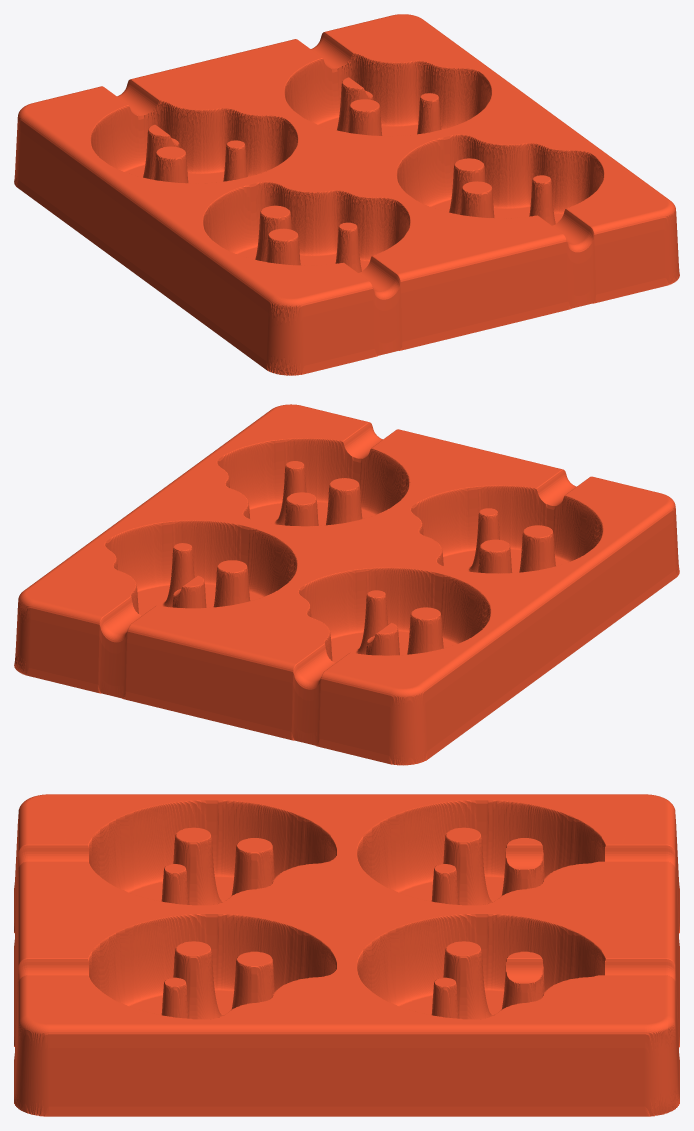
File: mold.glb
3 renders of one model, top to bottom at view 1: azimuth 30°, elevation 25°; view 2: azimuth 150°, elevation 25°; view 3: azimuth 270°, elevation 25°, orthographic. The views are drawn at different scales.
Parts seen in each view (by area): view 1: geometry_0; view 2: geometry_0; view 3: geometry_0.
Boxes of the visible parts, x1,y1,x2,y2 form: geometry_0: [14, 14, 679, 375]; geometry_0: [14, 404, 679, 765]; geometry_0: [14, 794, 679, 1116].
Size of the model in its own units: 0.1463 by 0.0245 by 0.171.
